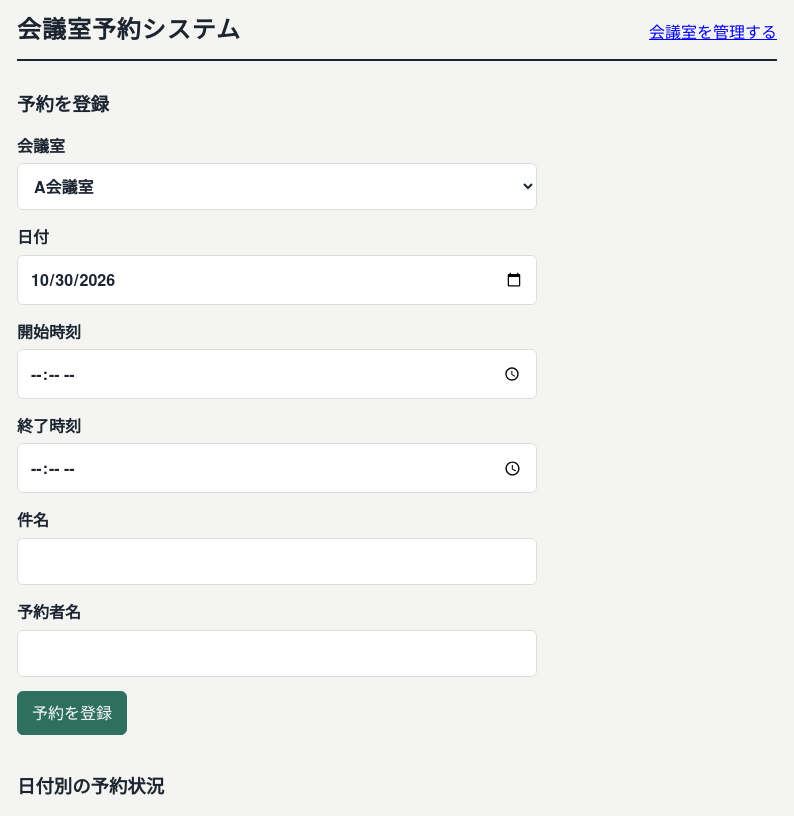
ReservationRegistration › 入力内容で予約を登録して成功メッセージを表示する
Select "A会議室" in the dropdown labelled "会議室": (277, 187) left=17, top=163, right=537, bottom=210
In the date field labelled "日付": (277, 280) left=17, top=255, right=537, bottom=305, type "2099-01-02"
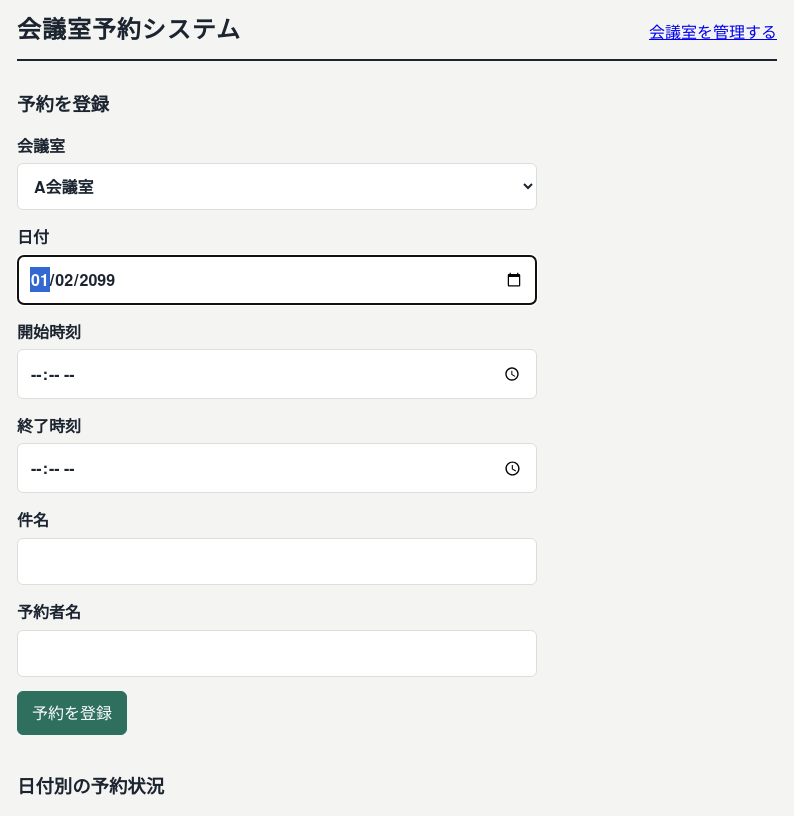
In the time field labelled "開始時刻": (277, 374) left=17, top=349, right=537, bottom=399, type "10:00"
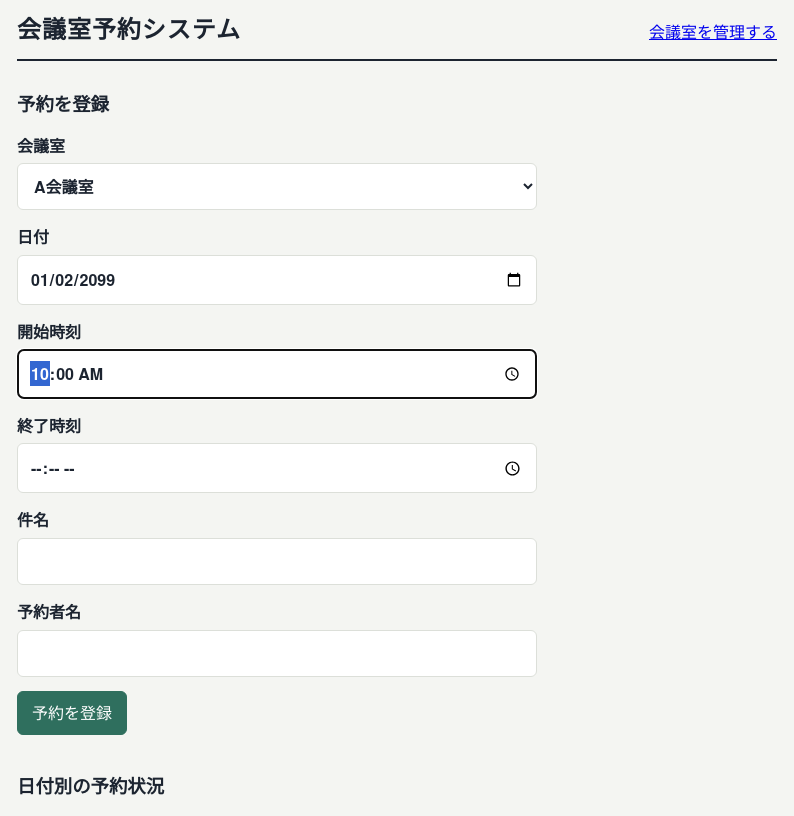
In the time field labelled "終了時刻": (277, 468) left=17, top=443, right=537, bottom=493, type "11:00"
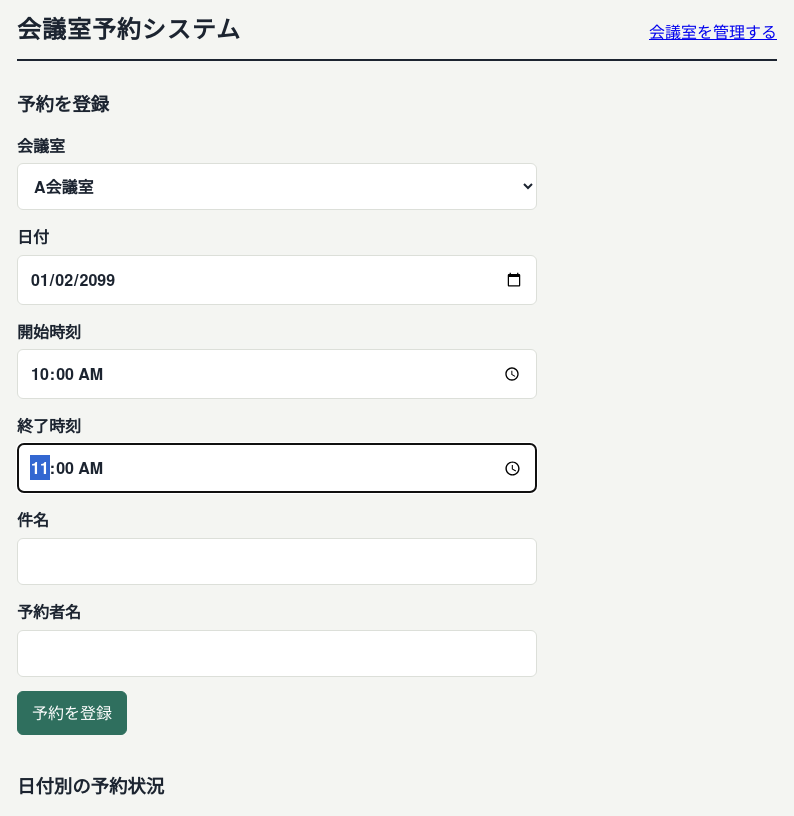
In the field labelled "件名": (277, 561) left=17, top=538, right=537, bottom=585, type "定例会議"
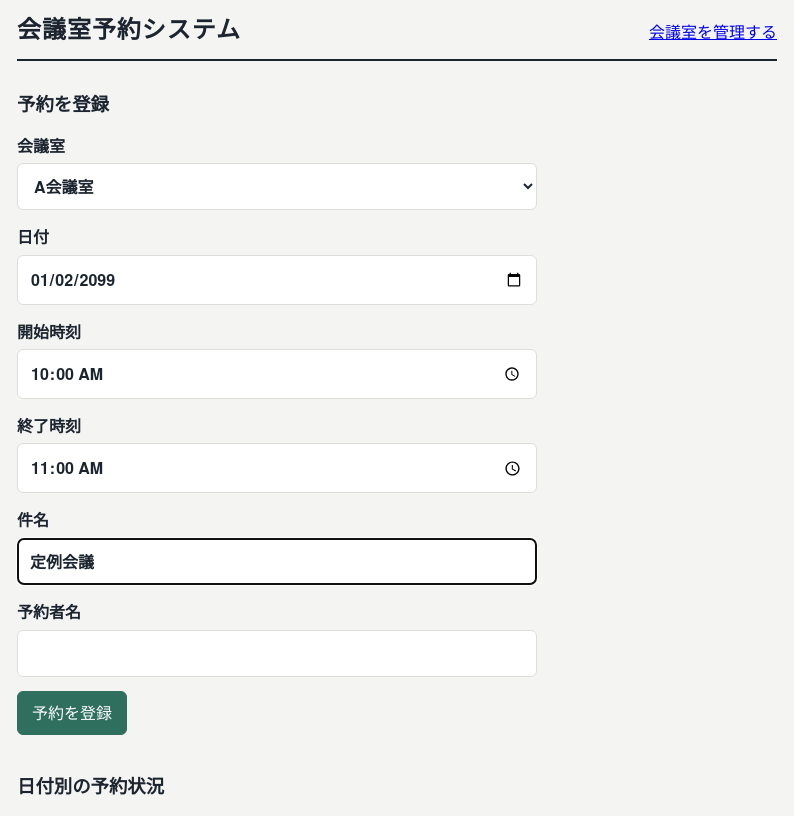
In the field labelled "予約者名": (277, 654) left=17, top=630, right=537, bottom=677, type "山田"
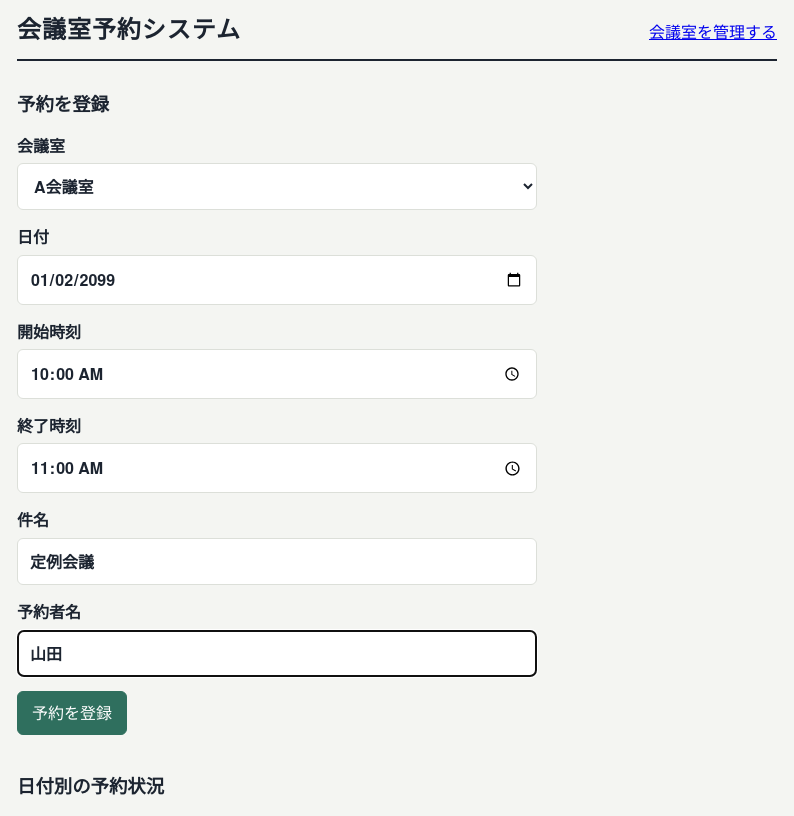
Click the button "予約を登録": (72, 713) left=17, top=691, right=127, bottom=735
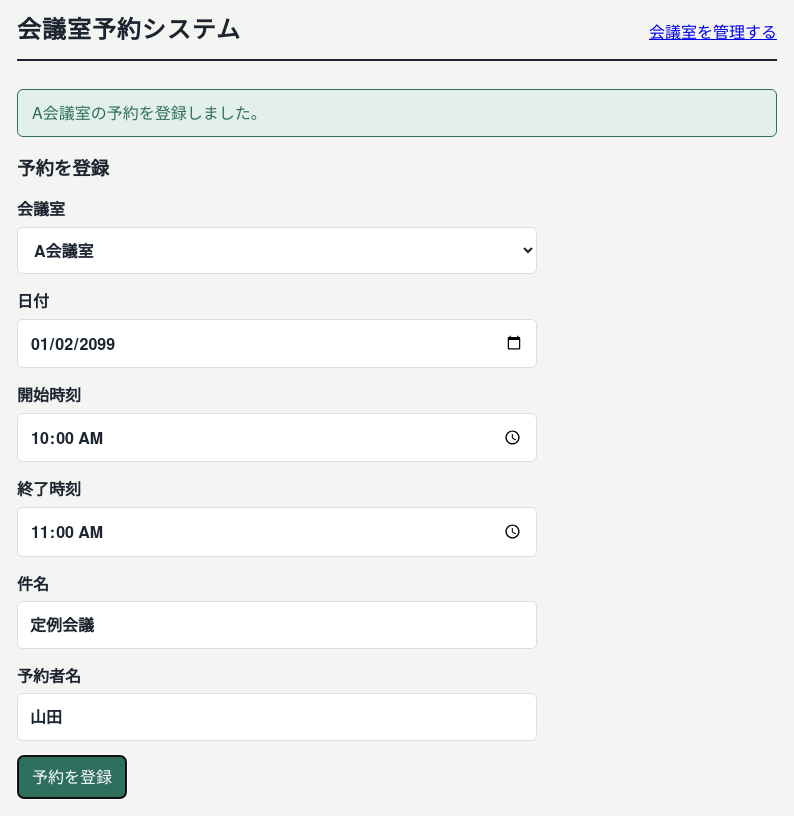
Expected: the message reads "A会議室の予約を登録しました。", left=32, top=101, right=267, bottom=124
